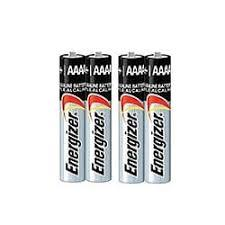AAA: (117, 51, 145, 183), (84, 51, 112, 182), (58, 51, 86, 182), (144, 51, 171, 183)
